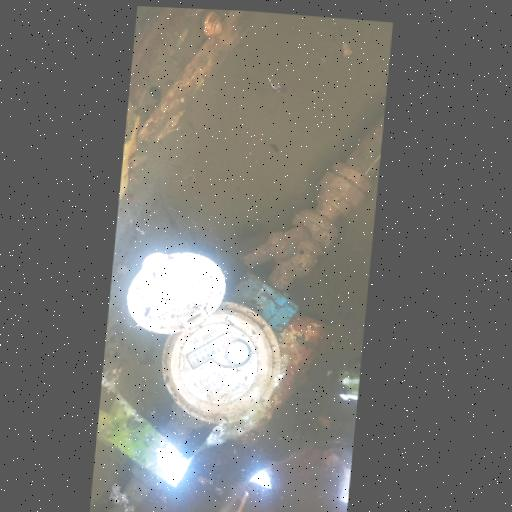0: (188, 353, 199, 365), (193, 351, 204, 363)
1: (225, 333, 233, 343)
3: (198, 348, 209, 360)
5: (208, 341, 220, 355)
7: (203, 344, 215, 356), (220, 336, 230, 347)
8: (215, 339, 227, 351)
border_water_meter_number: (185, 328, 237, 370)
